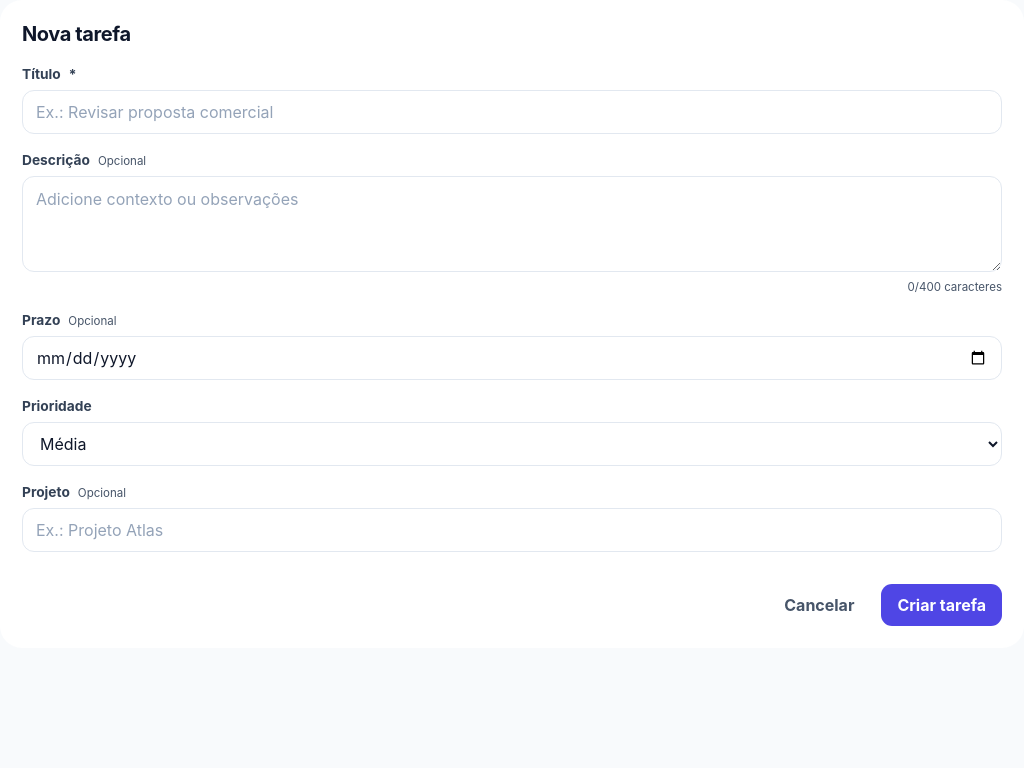
Test case: TaskForm › apresenta mensagem útil para rejeições sem objeto Error
The width and height of the screenshot is (1024, 768).
Type "Tentar salvar" into the field labelled "Título *".
click(512, 112); type("Tentar salvar")  # box [22,90,1002,134]
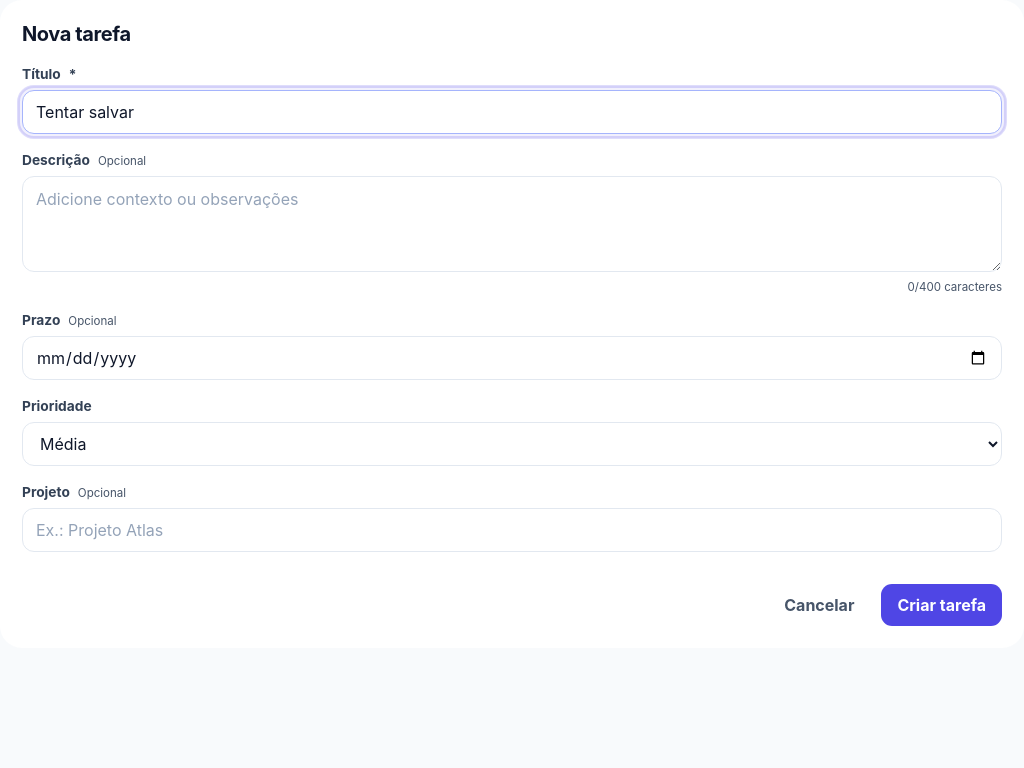
Click the button "Criar tarefa".
click(942, 605)  # box [881,584,1002,626]
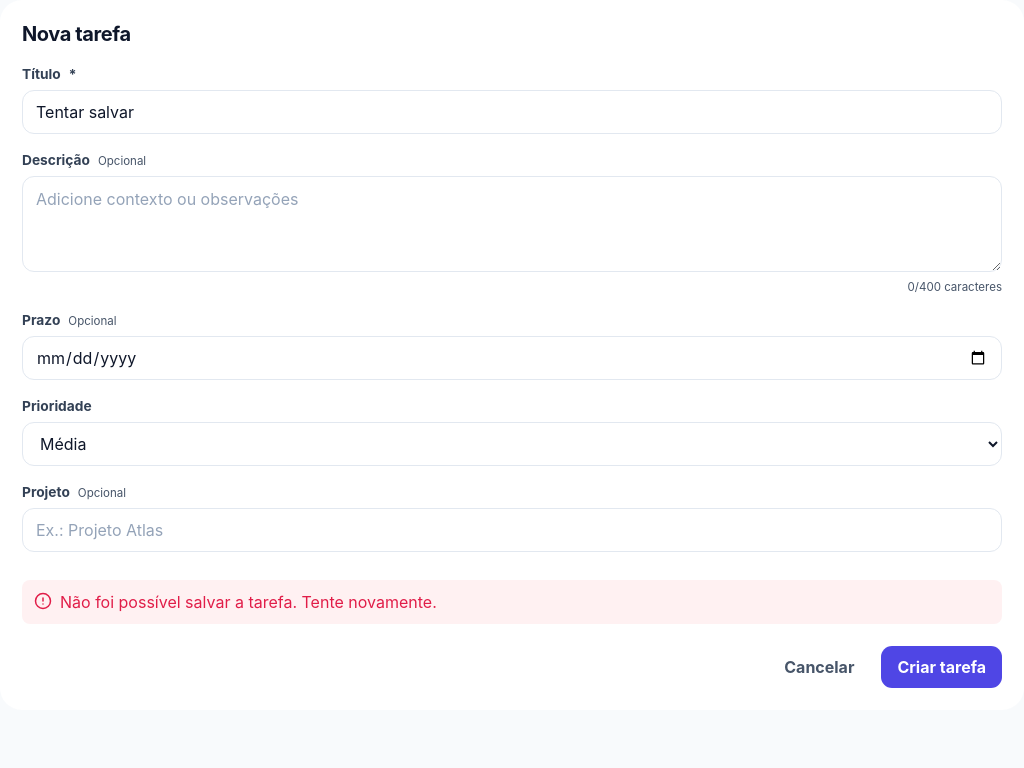
Expected: the message shows "Tente novamente", [60,592,437,612]
